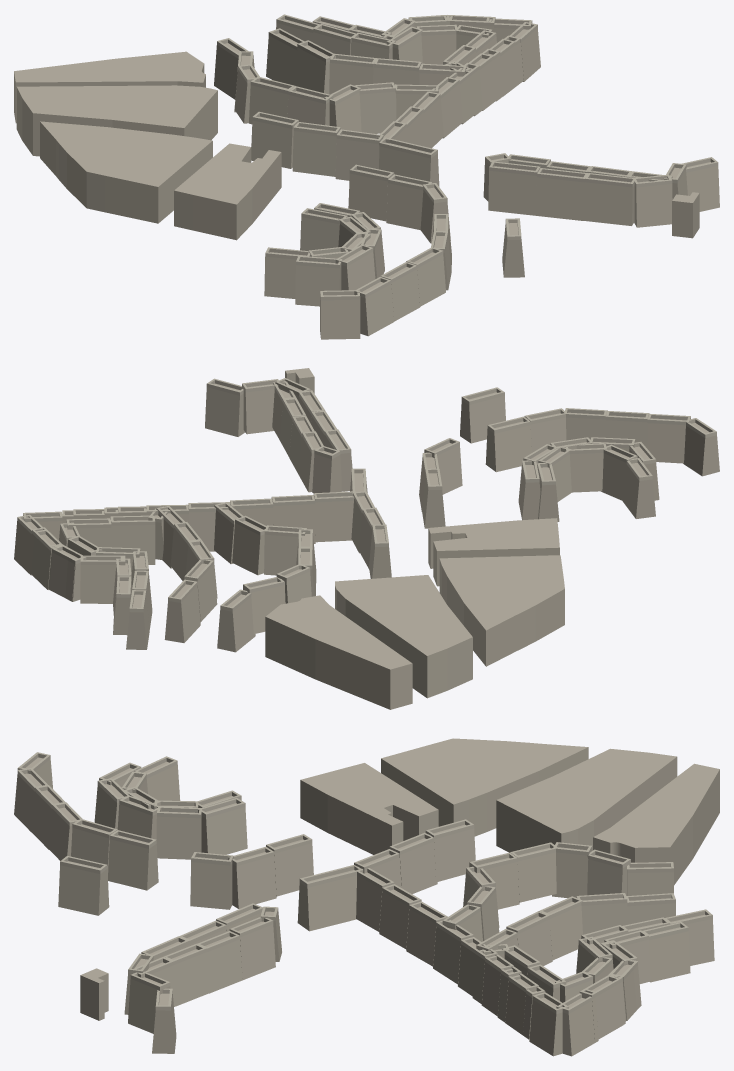
The model's file is bormla_62_26_collision.glb.
The picture shows the model from 3 angles, top to bottom: view 1: azimuth 30°, elevation 25°; view 2: azimuth 150°, elevation 25°; view 3: azimuth 270°, elevation 25°; orthographic projection. The views are drawn at different scales.
Visible parts, largest first — view 1: geometry_0; view 2: geometry_0; view 3: geometry_0.
Boxes of the visible parts, x1=… form: geometry_0: x1=14, y1=14, x2=719, y2=339; geometry_0: x1=14, y1=368, x2=719, y2=709; geometry_0: x1=14, y1=738, x2=719, y2=1056.
Bounding box in the file's own units: 163 × 19.24 × 186.
